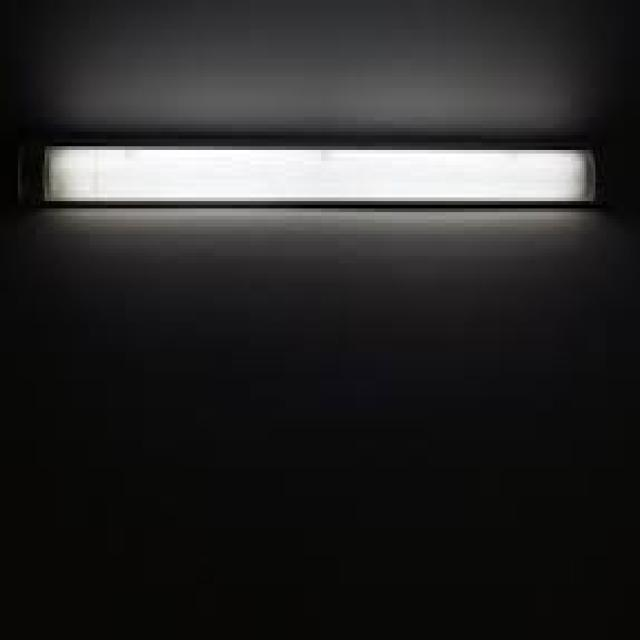tubelight_on: (14, 137, 602, 215)
